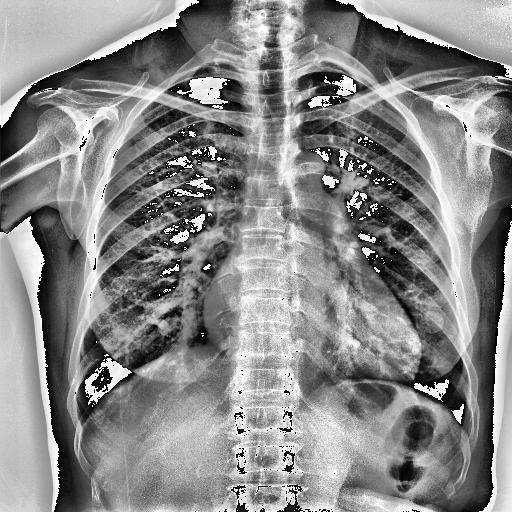3- Cardiomegaly: (202, 282, 422, 384), (202, 290, 424, 388), (202, 296, 426, 384)
7- Lung Opacity: (418, 310, 444, 334)
8- Nodule-Mass: (418, 311, 444, 331), (156, 314, 178, 335)
9- Other lesion: (418, 310, 444, 334)
